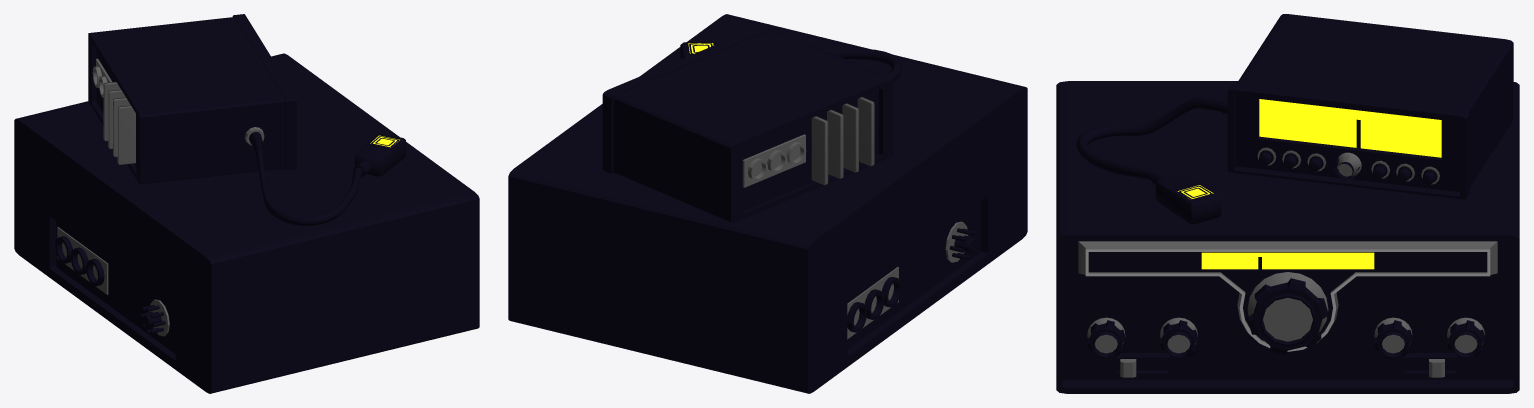
File: Radio.fbx
3 renders of one model, left to right at view 1: azimuth 30°, elevation 25°; view 2: azimuth 150°, elevation 25°; view 3: azimuth 270°, elevation 25°, orthographic. The views are drawn at different scales.
Parts seen in each view (by area): view 1: Cube, Cube.001, Cylinder.038, Cube.007, Cube.008, Cube.006, Cube.011; view 2: Cube, Cube.001, Cylinder.039, Cube.011, Cube.008, Cube.009, Cube.010, Cylinder.038, Cube.006, Cylinder.013; view 3: Cube, Cube.001, Cylinder, Cylinder.002, Cylinder.038, Cube.007, Cylinder.006, Cylinder.008, Cylinder.010, Cylinder.004, Cube.002, Cube.004 (+2 smaller).
Boxes of the visible parts, x1=… form: Cube: x1=14, y1=53, x2=479, y2=393; Cube.001: x1=88, y1=14, x2=296, y2=184; Cylinder.038: x1=249, y1=132, x2=371, y2=225; Cube.007: x1=355, y1=133, x2=405, y2=176; Cube.008: x1=117, y1=105, x2=135, y2=164; Cube.006: x1=57, y1=227, x2=108, y2=294; Cube.011: x1=103, y1=81, x2=120, y2=141; Cube: x1=508, y1=14, x2=1027, y2=393; Cube.001: x1=602, y1=24, x2=893, y2=223; Cylinder.039: x1=742, y1=134, x2=806, y2=187; Cube.011: x1=811, y1=116, x2=828, y2=185; Cube.008: x1=857, y1=97, x2=874, y2=166; Cube.009: x1=842, y1=103, x2=858, y2=172; Cube.010: x1=827, y1=109, x2=843, y2=178; Cylinder.038: x1=822, y1=48, x2=901, y2=81; Cube.006: x1=847, y1=267, x2=898, y2=339; Cylinder.013: x1=847, y1=302, x2=866, y2=332; Cube: x1=1056, y1=81, x2=1519, y2=393; Cube.001: x1=1227, y1=14, x2=1513, y2=199; Cylinder: x1=1078, y1=241, x2=1497, y2=351; Cylinder.002: x1=1248, y1=278, x2=1327, y2=354; Cylinder.038: x1=1076, y1=95, x2=1227, y2=185; Cube.007: x1=1155, y1=174, x2=1221, y2=224; Cylinder.006: x1=1160, y1=320, x2=1197, y2=359; Cylinder.008: x1=1374, y1=320, x2=1412, y2=359; Cylinder.010: x1=1447, y1=320, x2=1484, y2=359; Cylinder.004: x1=1087, y1=320, x2=1124, y2=359; Cube.002: x1=1115, y1=353, x2=1170, y2=374; Cube.004: x1=1402, y1=353, x2=1457, y2=374.
Size of the model in its own units: 215 by 146 by 254.
